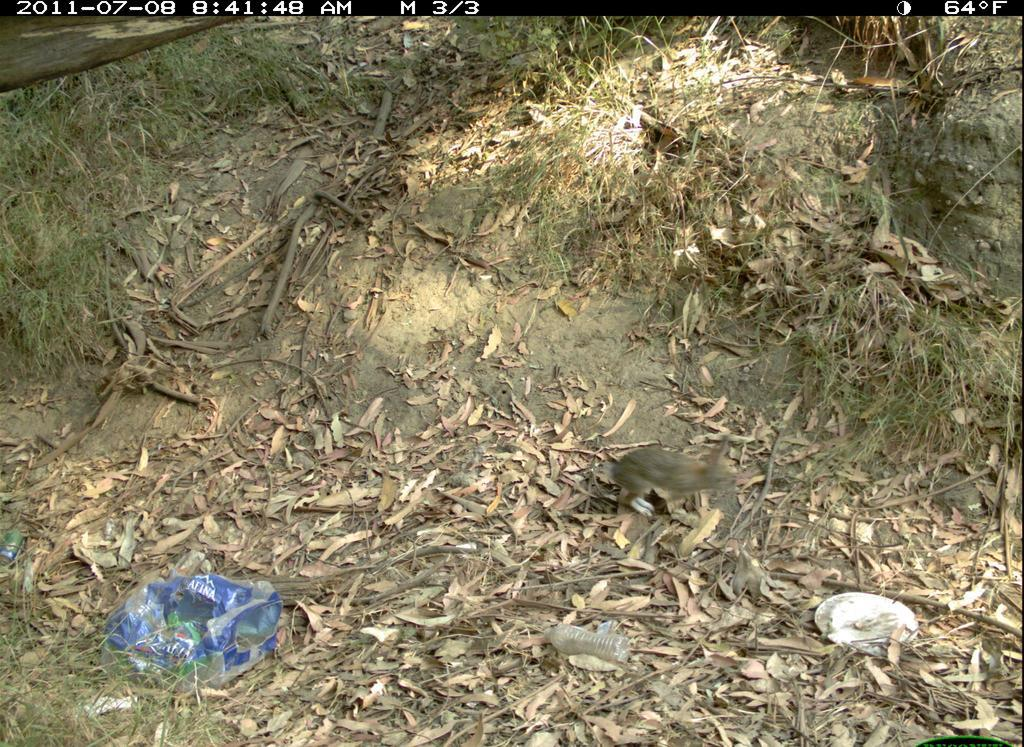rabbit: (597, 429, 758, 537)
